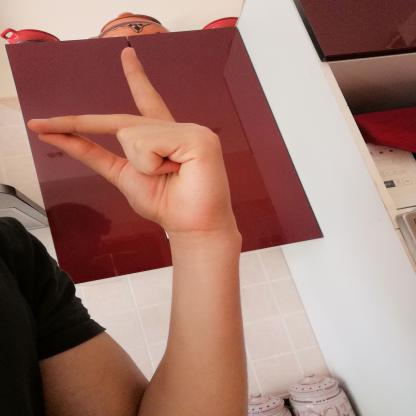TAA: (12, 39, 248, 238)
